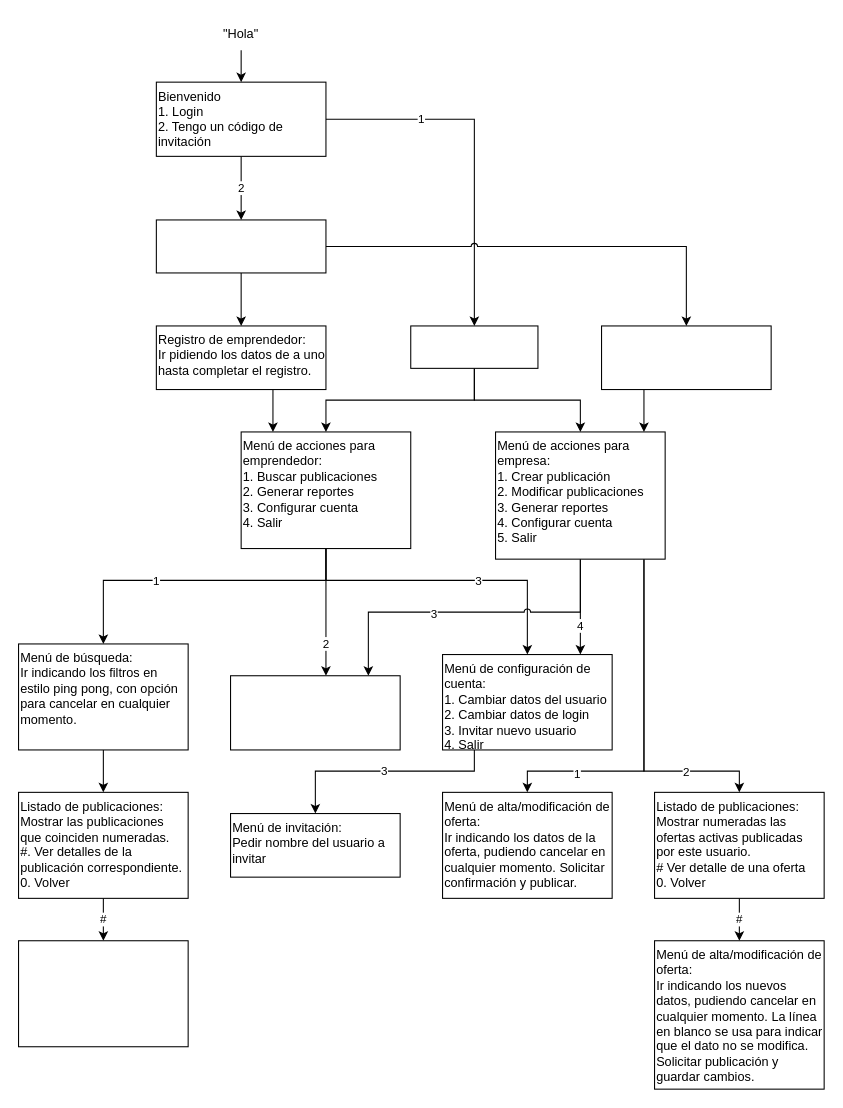
The diagram is 843 pixels wide and 1108 high, and some of its shapes have lost their labels. The shapes that lost their labels are listed below. From the top down, each one's box as (x1, y1, x2, y2) in pixels, then its label:
(155, 219, 326, 273): Menú aceptar invitación: Pedir código de invitación
(410, 325, 538, 368): Prompt login, pide usuario y contraseña
(600, 325, 771, 390): Registro de empresa: Ir pidiendo los datos de a uno hasta completar el registro.
(229, 675, 400, 750): Menú de generación de reporte: Pedir fechas y enviar reporte en mensaje.
(17, 940, 188, 1047): Mostrar detalles de la publicación elegida. 1. Comprar (confirmación) 2. Volver
